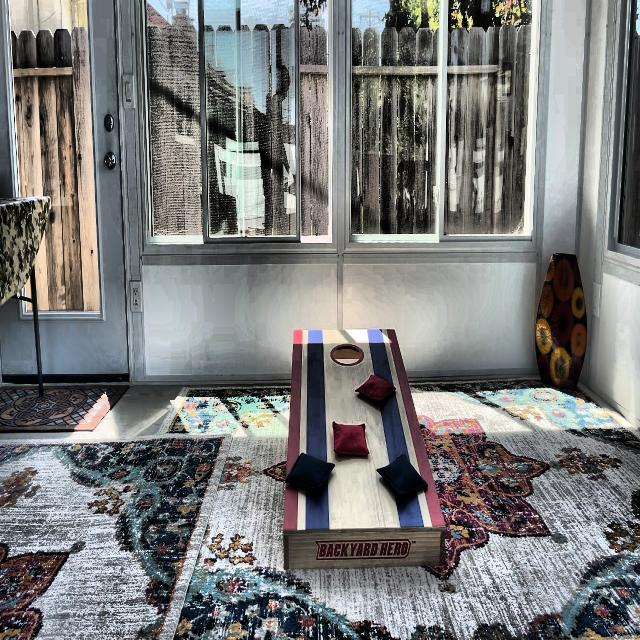blue-bean-bag: (377, 453, 429, 498), (285, 452, 335, 492)
board: (290, 330, 410, 529)
hole: (330, 342, 364, 366)
red-bean-bag: (332, 419, 370, 458), (356, 374, 396, 403)
